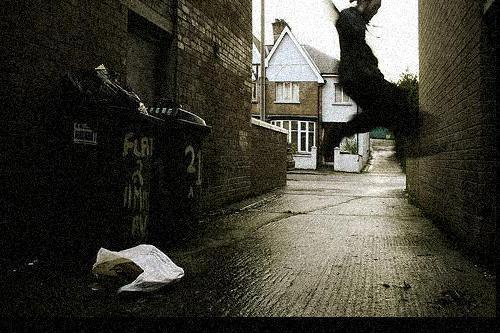Bote de Basura: (57, 88, 163, 252), (131, 107, 215, 246)
